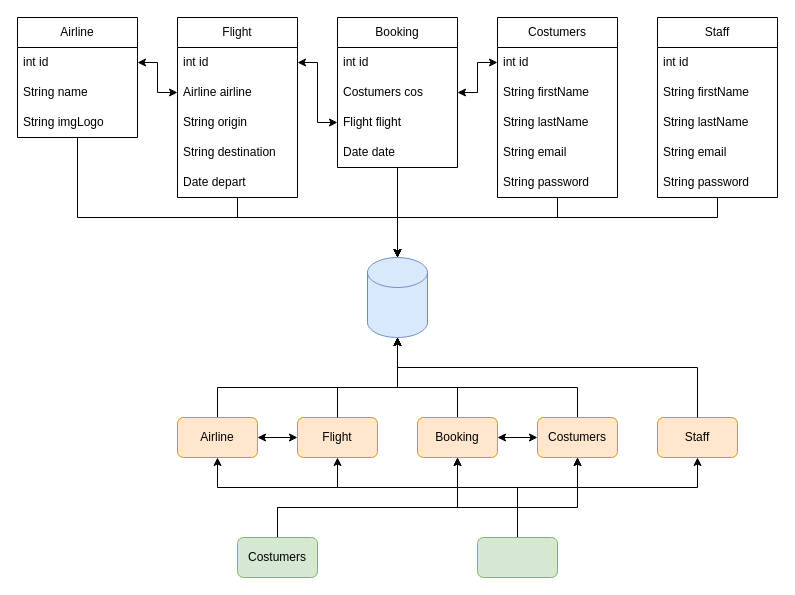
Some shapes in this 795 by 595 pixel diagram are drawn without their labels. The box of each missing label's shape, as (x1, y1, x2, y2) in pixels:
Employers: (476, 536, 558, 578)
Sql: (366, 256, 428, 338)
